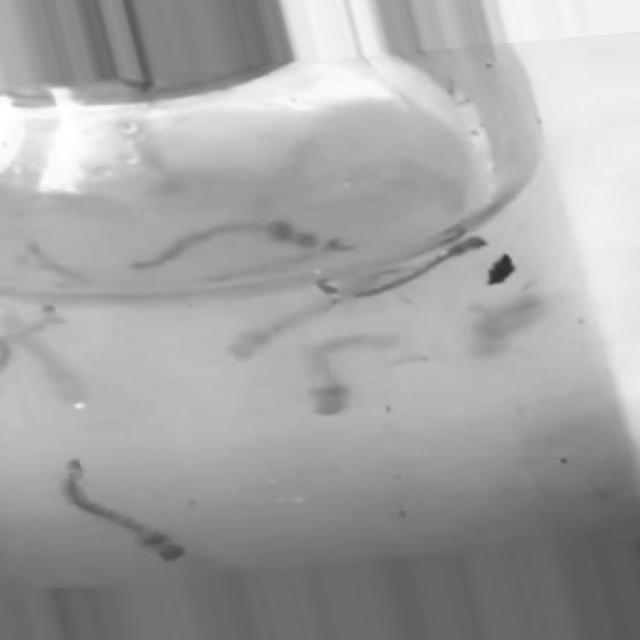larvas: (219, 272, 376, 374), (135, 207, 348, 282), (320, 227, 495, 309), (65, 464, 182, 560), (313, 332, 396, 417), (473, 301, 543, 356), (8, 294, 64, 346), (35, 338, 84, 392)
